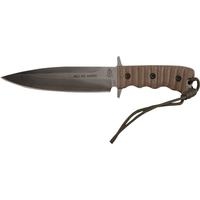knife: (2, 55, 197, 111)
